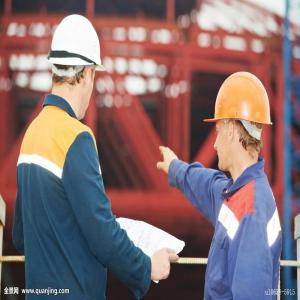white: (46, 12, 105, 124)
yellow: (210, 70, 275, 178)
